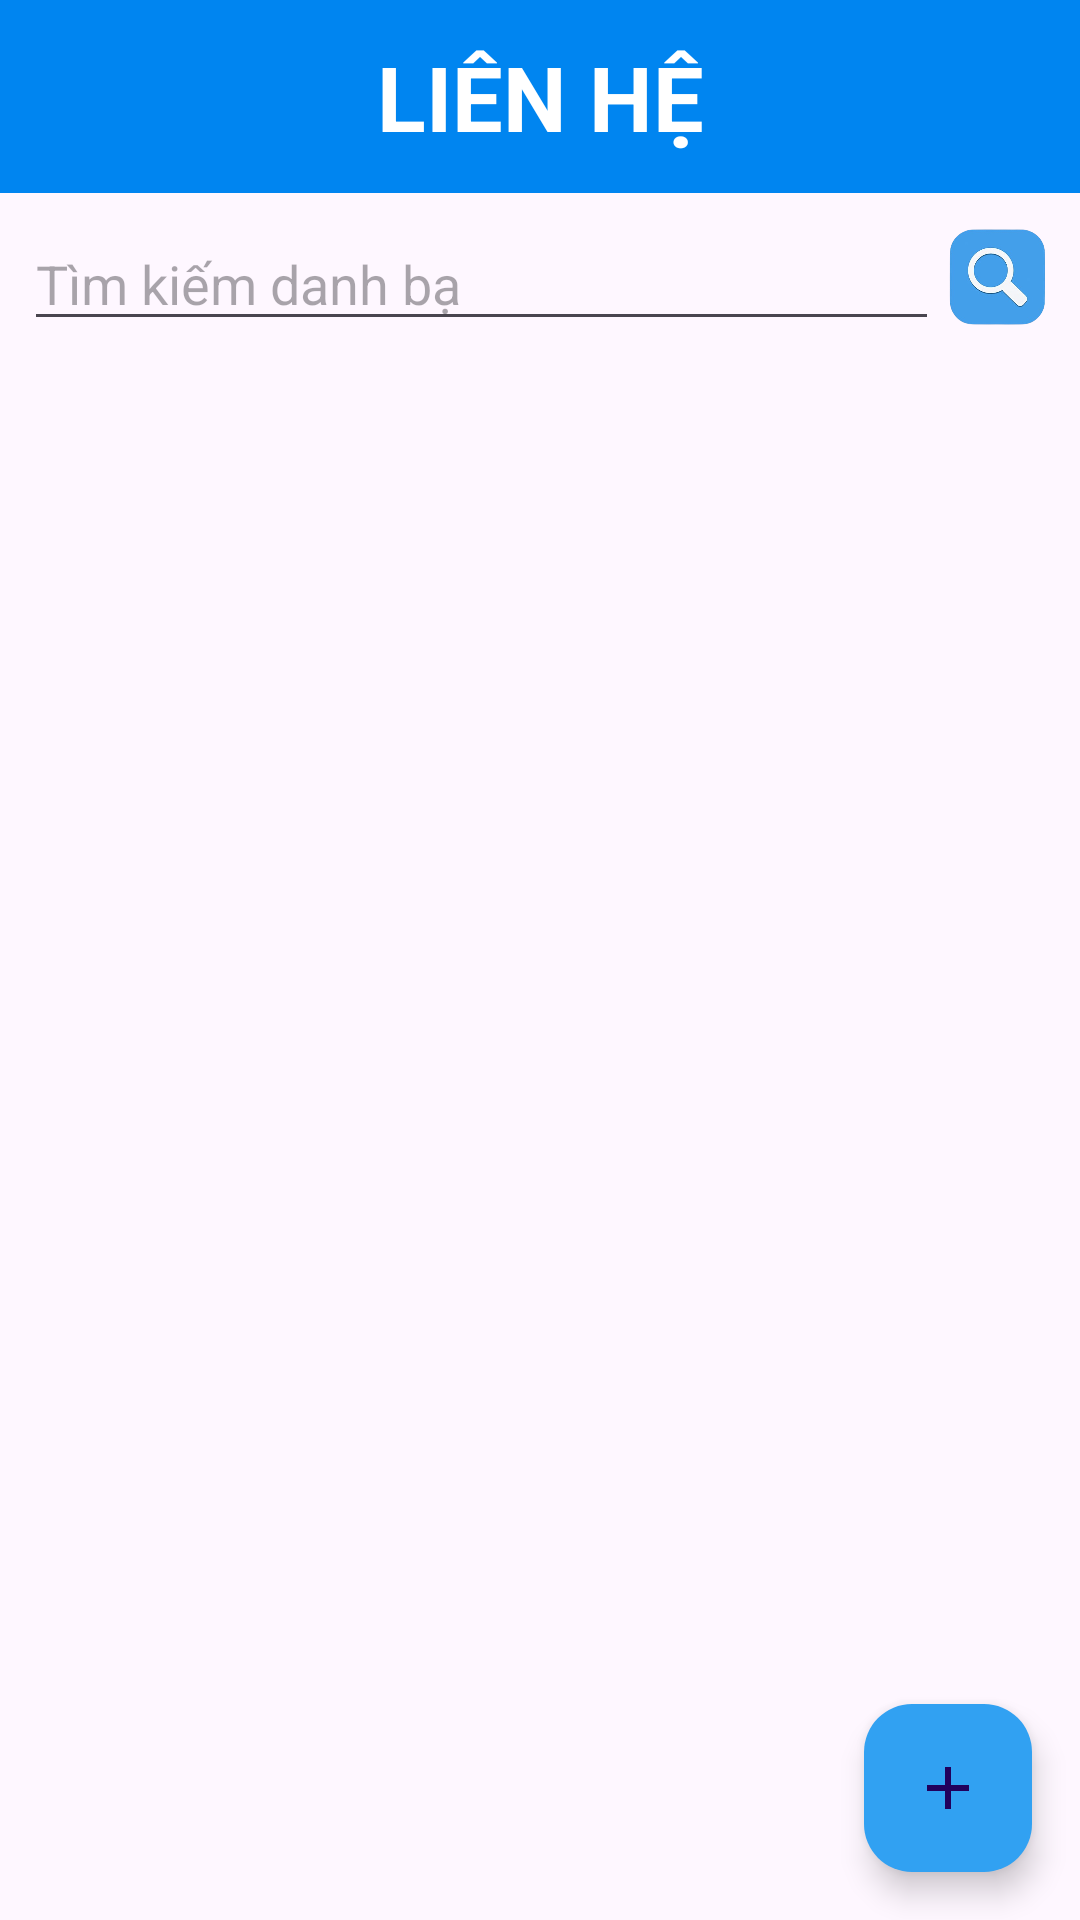

Where to tap for icons on this 1080px x 1920px app screen, as point (x, y):
add contact: point (948, 1788)
search: point (997, 277)
